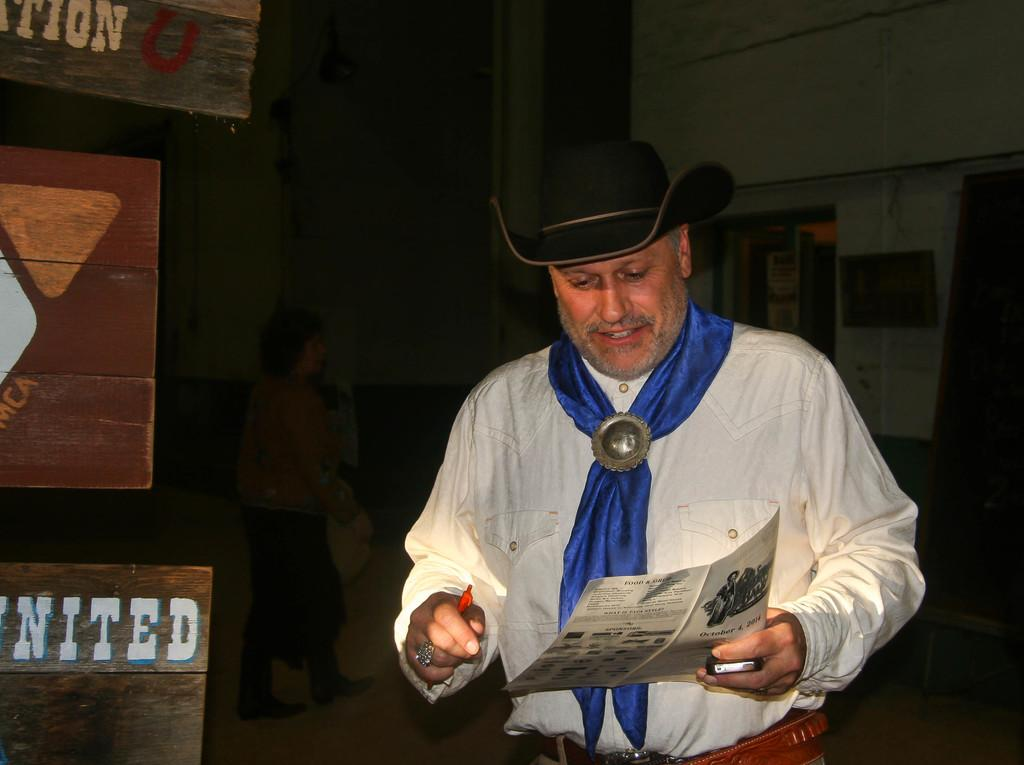Hat: (488, 140, 736, 268)
